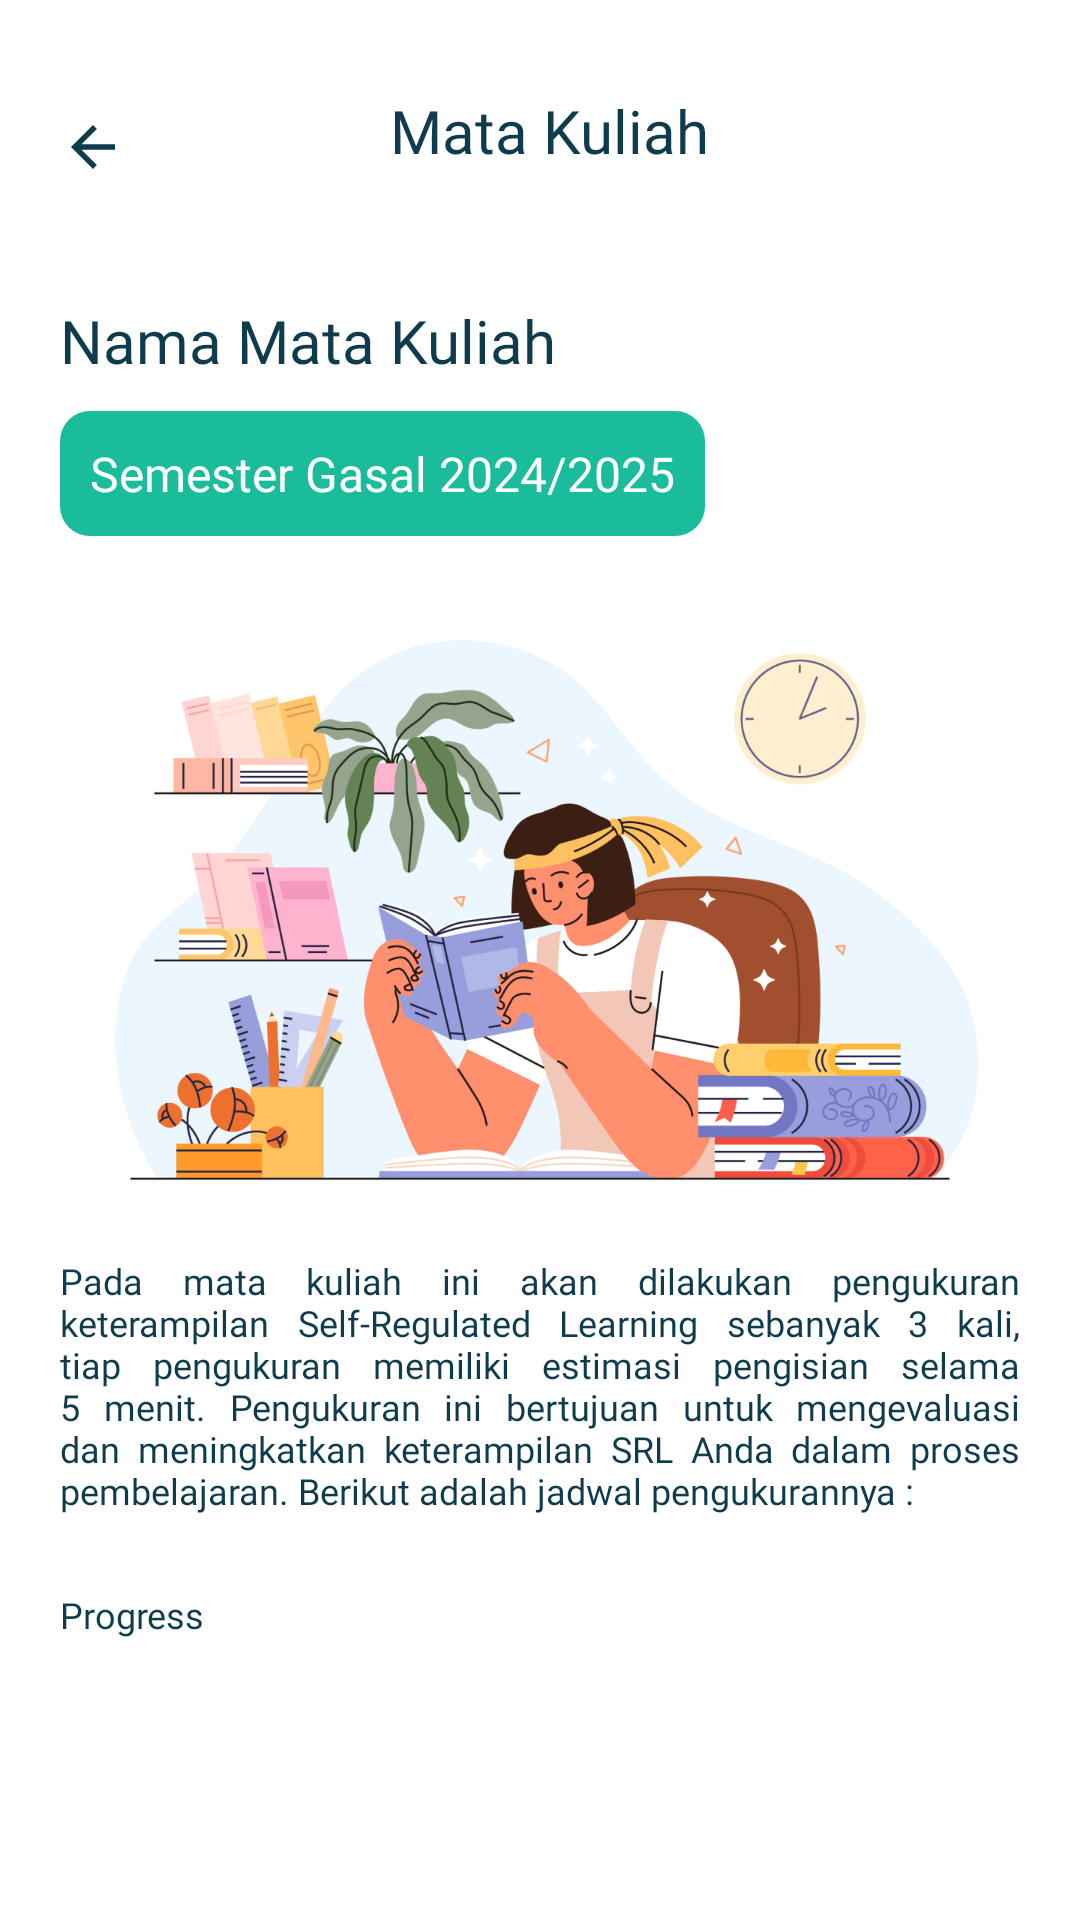

Point at icon controls on the screen. Image size 1080px x 1920px, points as [x,y].
arrow back: [93,147]
